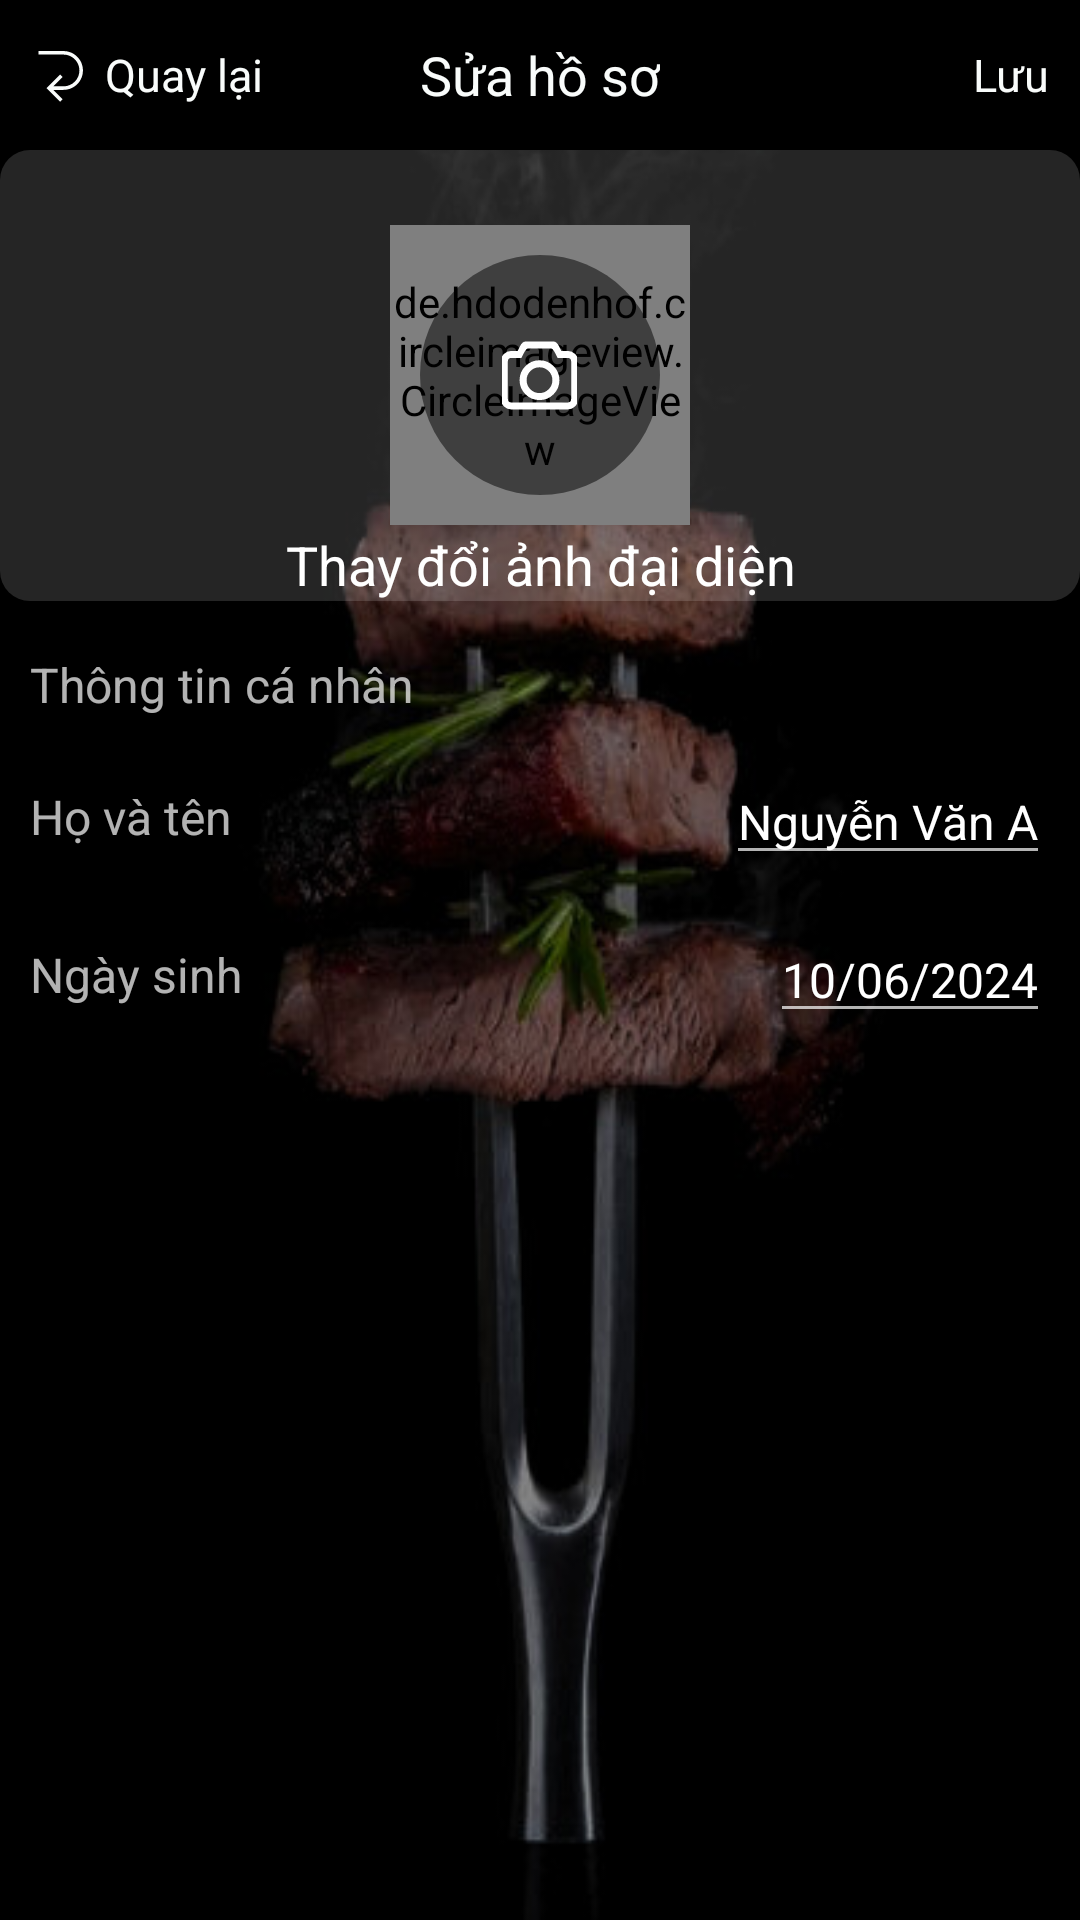

Icons on this 1080x1920 Android screen, each with the point to tap as point (x, y):
back left: point (60, 76)
camera: point (539, 377)
